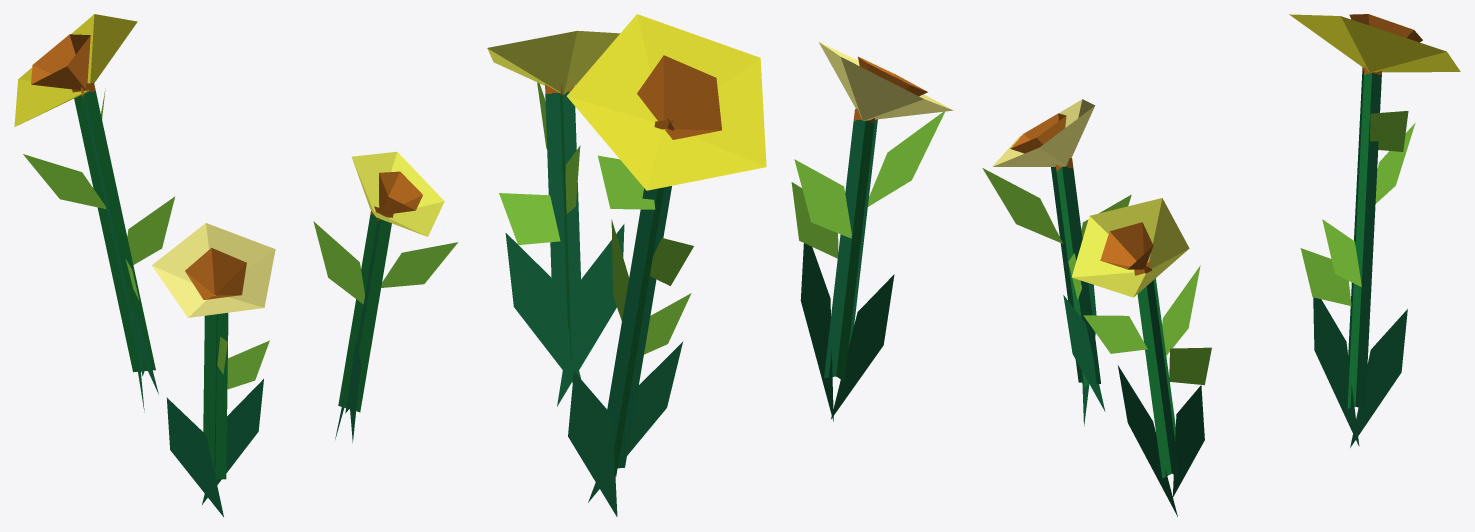
Rendered from flowers_1.gltf.
3 views of the same model, side by side, from view 1: azimuth 30°, elevation 25°; view 2: azimuth 150°, elevation 25°; view 3: azimuth 270°, elevation 25° (orthographic). The views are drawn at different scales.
Visible parts, largest first — view 1: plane (×14), circle (×6); view 2: plane (×21), circle (×5); view 3: plane (×19), circle (×6).
Part boxes in pixels (box(x1,y1,x2,y2)): plane (×14): box(23, 83, 458, 516); circle (×6): box(14, 14, 444, 317); plane (×21): box(499, 84, 944, 516); circle (×5): box(487, 14, 953, 190); plane (×19): box(982, 66, 1415, 516); circle (×6): box(992, 14, 1460, 297).
Size of the model in its own units: 0.5911 by 0.7002 by 0.708.
1 material, 1 textured.
